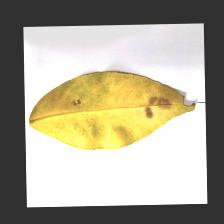canker: (71, 88, 201, 127)
